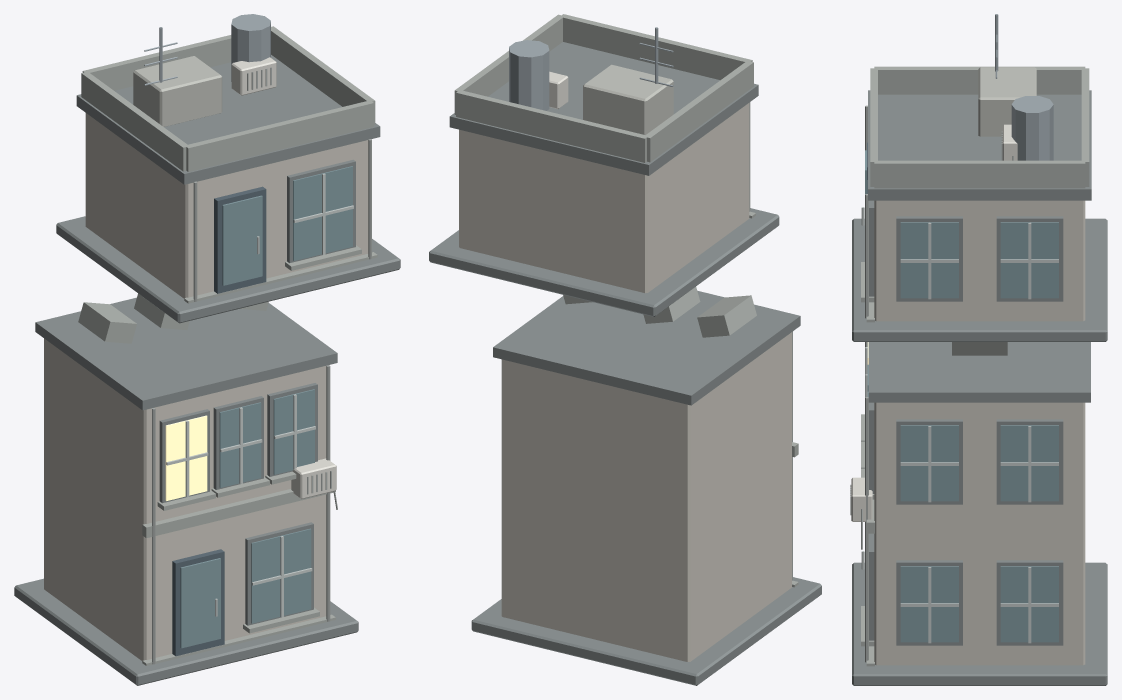
Rendered from SM_ENV_Building_16_FloatingBuilding.glb.
3 views of the same model, side by side, from view 1: azimuth 30°, elevation 25°; view 2: azimuth 150°, elevation 25°; view 3: azimuth 270°, elevation 25° (orthographic). The views are drawn at different scales.
Parts seen in each view (by area): view 1: SM_ENV_Building_16_FloatingBuilding; view 2: SM_ENV_Building_16_FloatingBuilding; view 3: SM_ENV_Building_16_FloatingBuilding.
Boxes of the visible parts, x1=… form: SM_ENV_Building_16_FloatingBuilding: x1=14, y1=14, x2=400, y2=685; SM_ENV_Building_16_FloatingBuilding: x1=429, y1=14, x2=821, y2=685; SM_ENV_Building_16_FloatingBuilding: x1=850, y1=14, x2=1107, y2=685.
Bounding box in the file's own units: 5.7 × 12.05 × 4.63.
